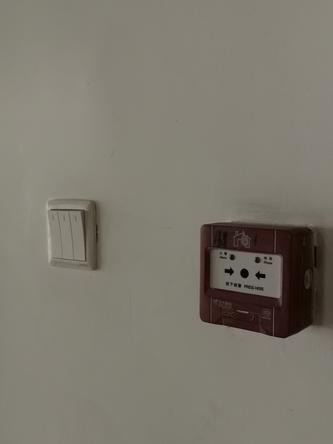switch: (68, 207, 88, 261), (45, 208, 64, 260), (57, 208, 75, 262)
